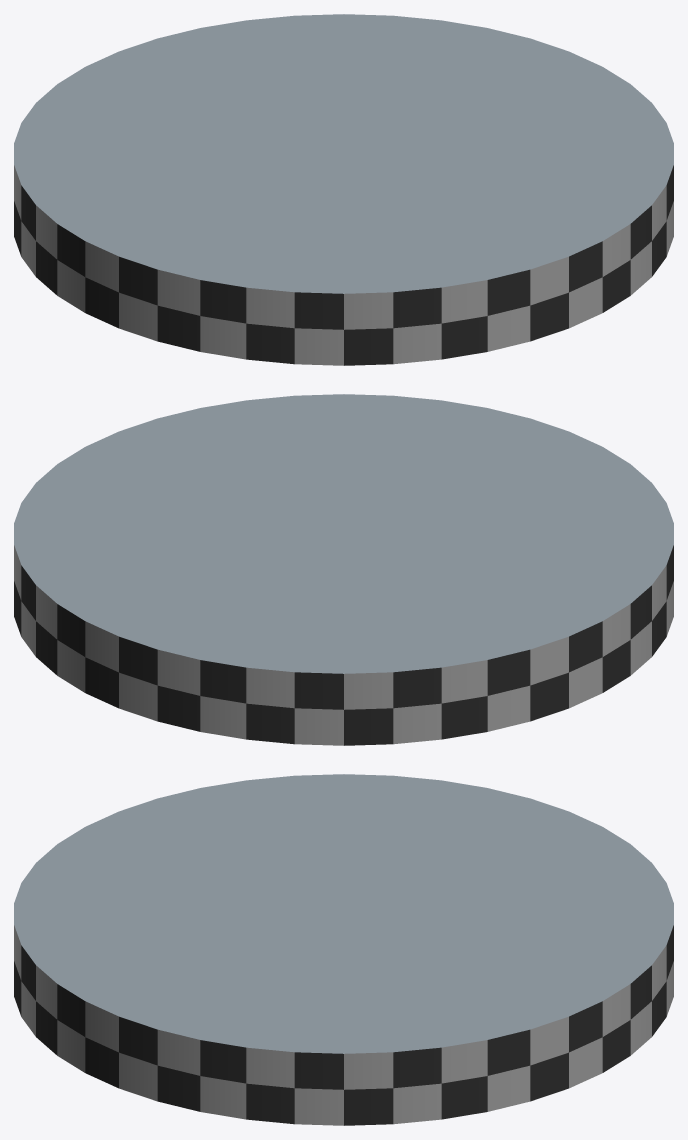
File: Platform.fbx
The picture shows the model from 3 angles, top to bottom: view 1: azimuth 30°, elevation 25°; view 2: azimuth 150°, elevation 25°; view 3: azimuth 270°, elevation 25°; orthographic projection.
Visible parts, largest first — view 1: Platform; view 2: Platform; view 3: Platform.
Part boxes in pixels (x1,y1,x2,y2): Platform: (14,14,673,365); Platform: (14,394,673,745); Platform: (14,774,673,1125).
Bounding box in the file's own units: 100 × 12 × 99.72.
